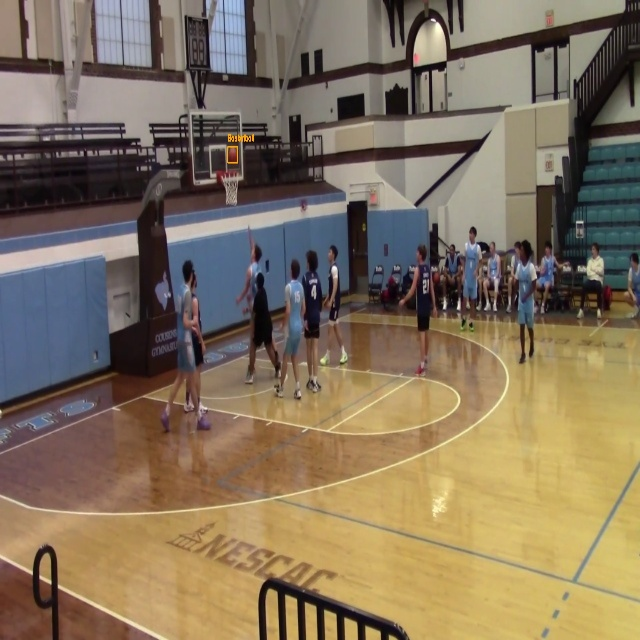Basketball: (228, 147, 238, 163)
